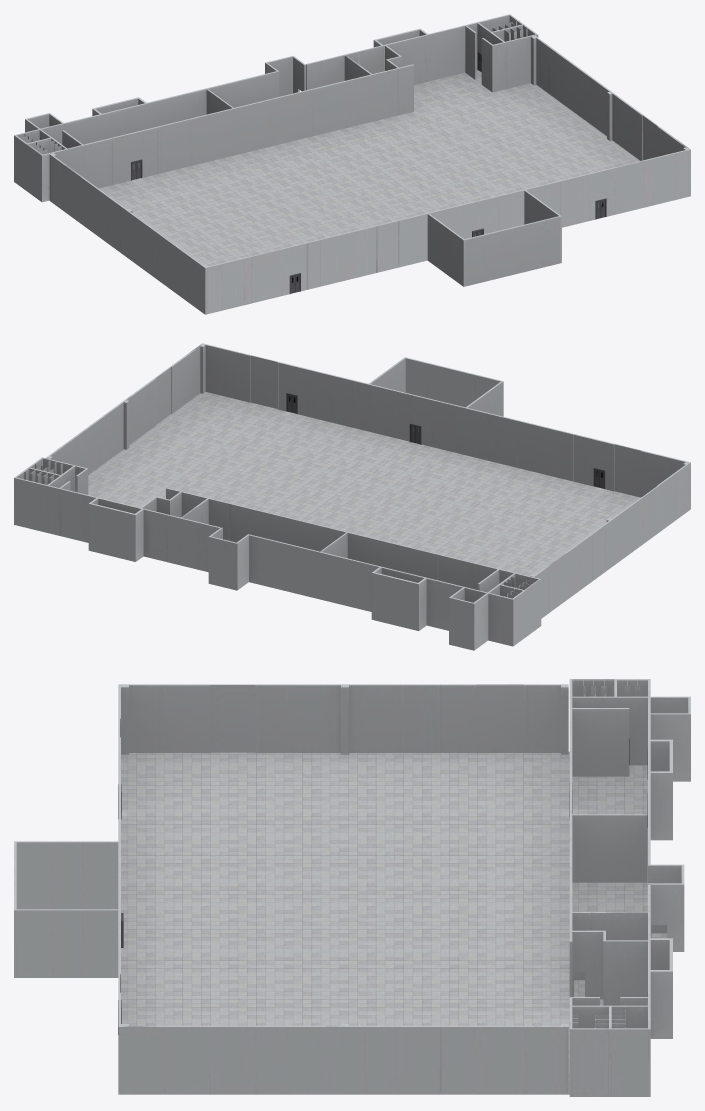
Rendered from LXWZ_F.glb.
3 views of the same model, one above another, from view 1: azimuth 30°, elevation 25°; view 2: azimuth 150°, elevation 25°; view 3: azimuth 270°, elevation 25° (orthographic). The views are drawn at different scales.
Bounding box in the file's own units: 68.28 × 6.14 × 55.78.
2 materials, 2 textured.
